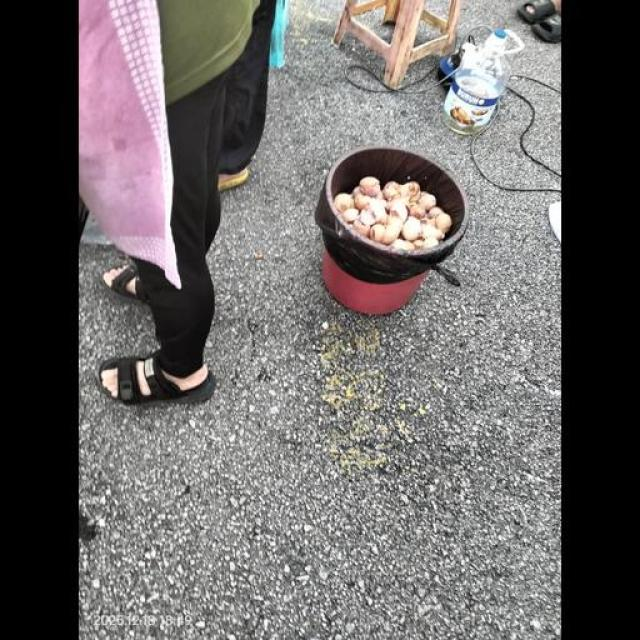organic: (298, 69, 542, 454), (158, 0, 258, 103), (323, 250, 428, 314)
